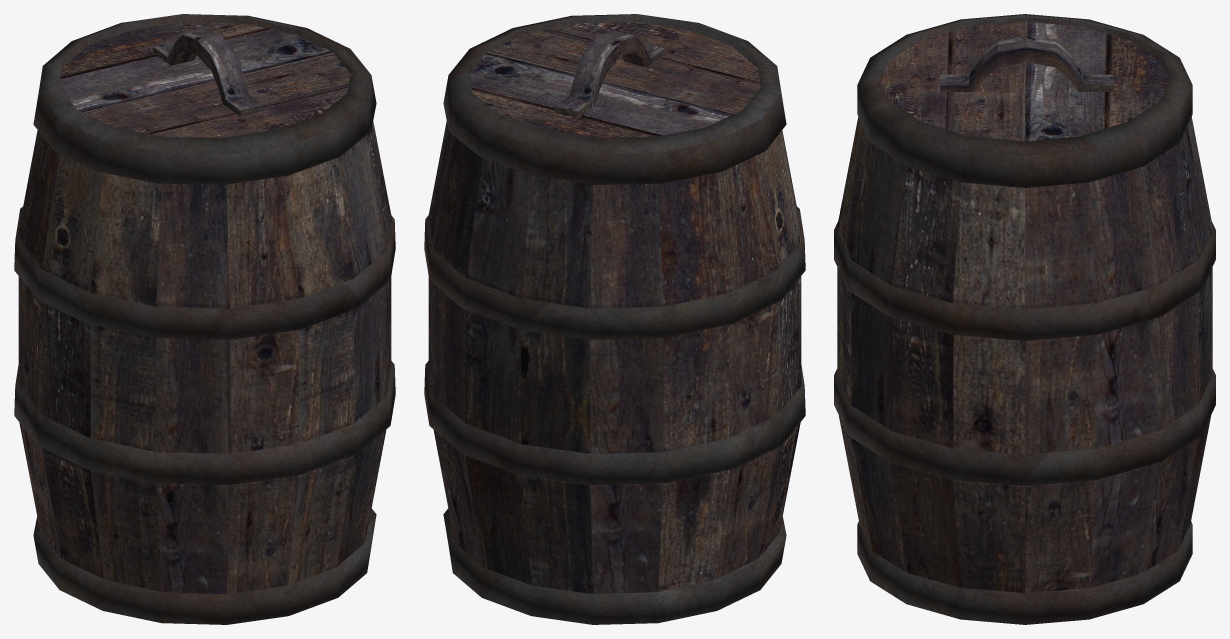
Rendered from barrel_closed_2.fbx.
3 views of the same model, side by side, from view 1: azimuth 30°, elevation 25°; view 2: azimuth 150°, elevation 25°; view 3: azimuth 270°, elevation 25° (orthographic).
Parts seen in each view (by area): view 1: Barrel1_2; view 2: Barrel1_2; view 3: Barrel1_2.
Part boxes in pixels (x1=…): Barrel1_2: x1=14, y1=14, x2=395, y2=624; Barrel1_2: x1=424, y1=14, x2=805, y2=624; Barrel1_2: x1=834, y1=14, x2=1215, y2=624.
Bounding box in the file's own units: 0.5987 × 0.8844 × 0.5948.
